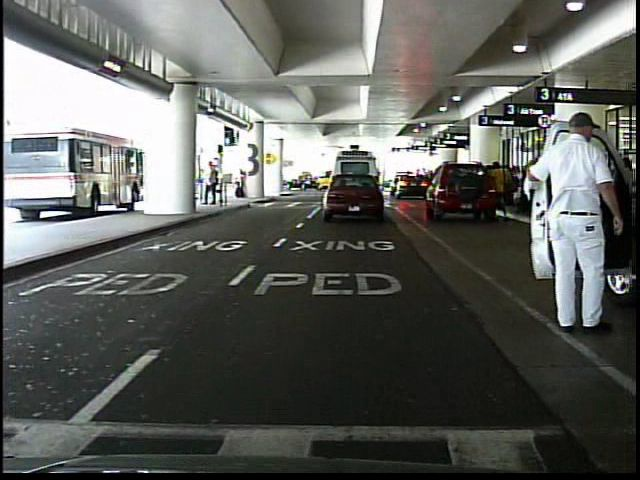person: (524, 108, 622, 338), (573, 149, 603, 224), (493, 156, 512, 223), (203, 155, 220, 208), (235, 165, 251, 201)
